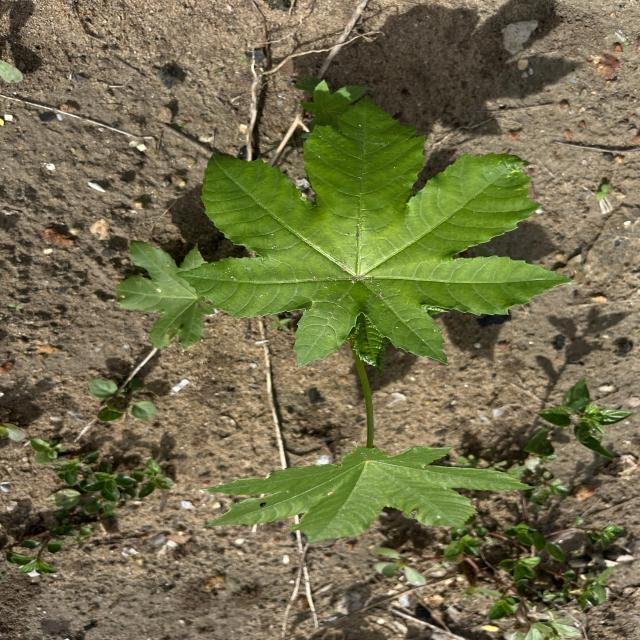Ricinus communis linn: (172, 92, 578, 370), (196, 442, 545, 546)
